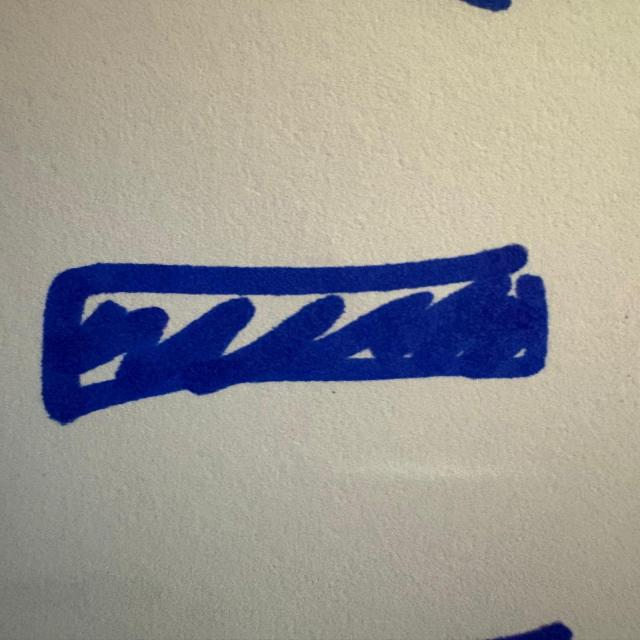Rectangle: (34, 236, 582, 428)
